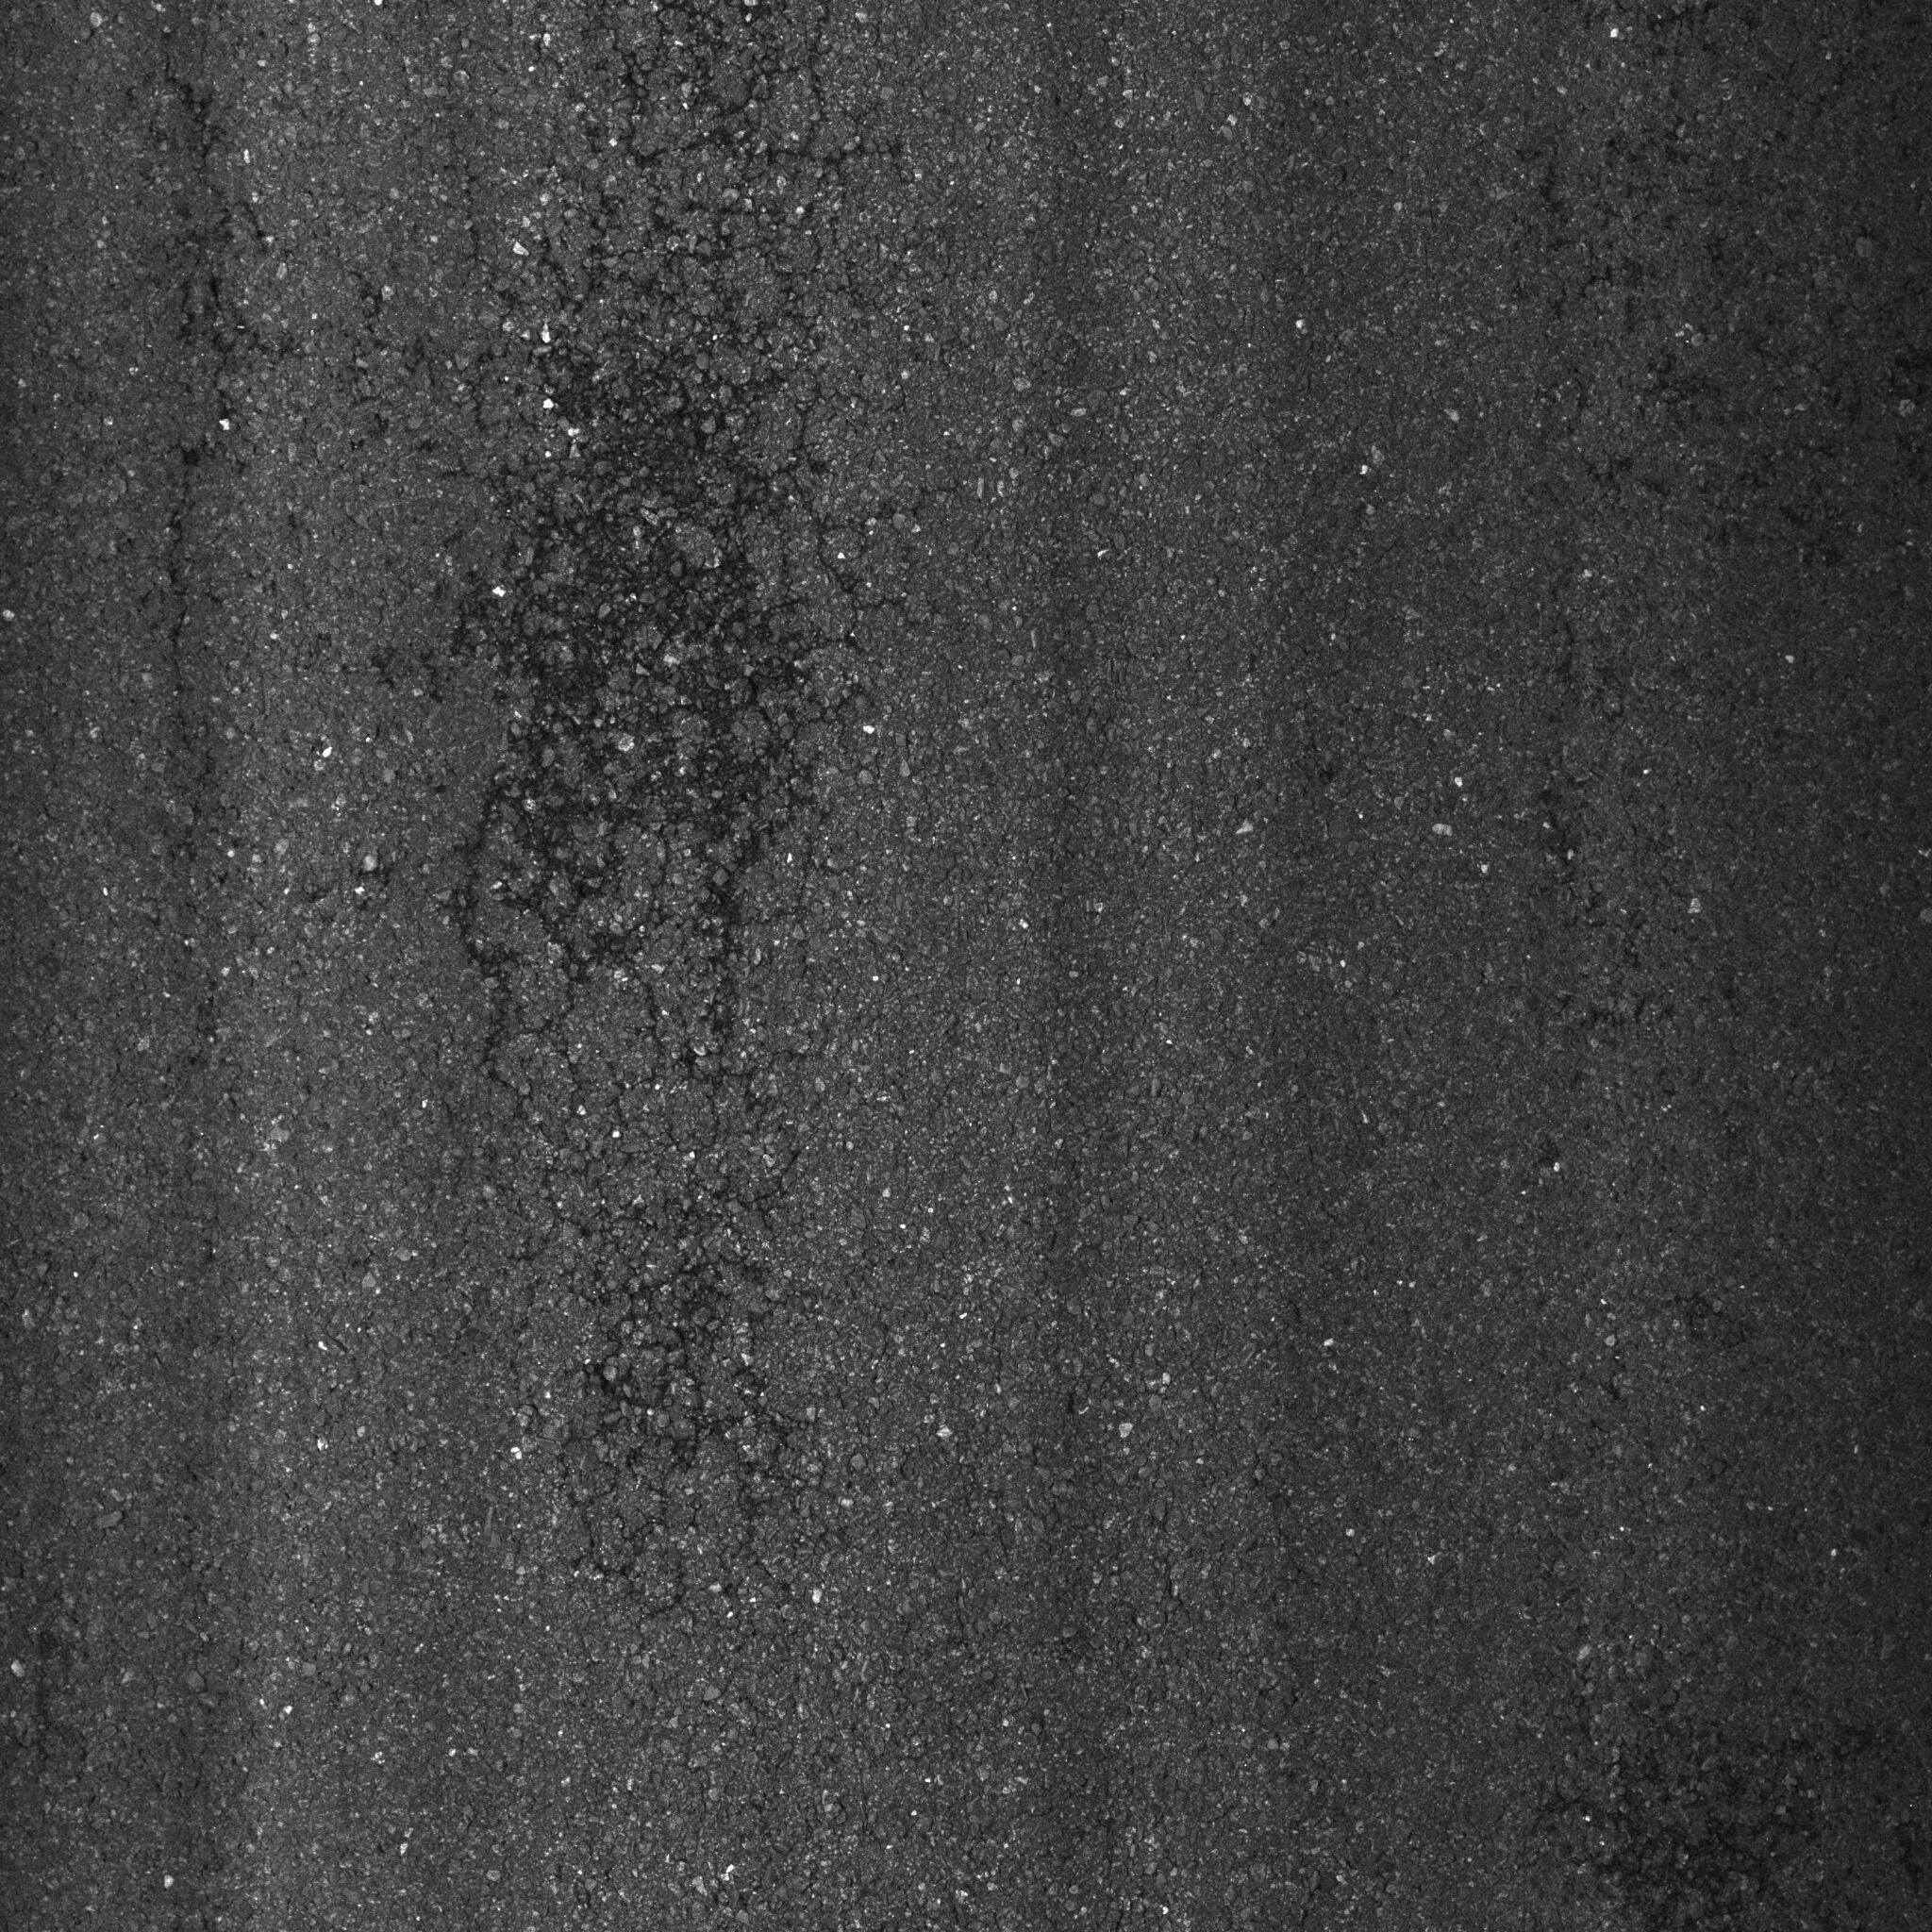alligator: (372, 7, 911, 1612)
